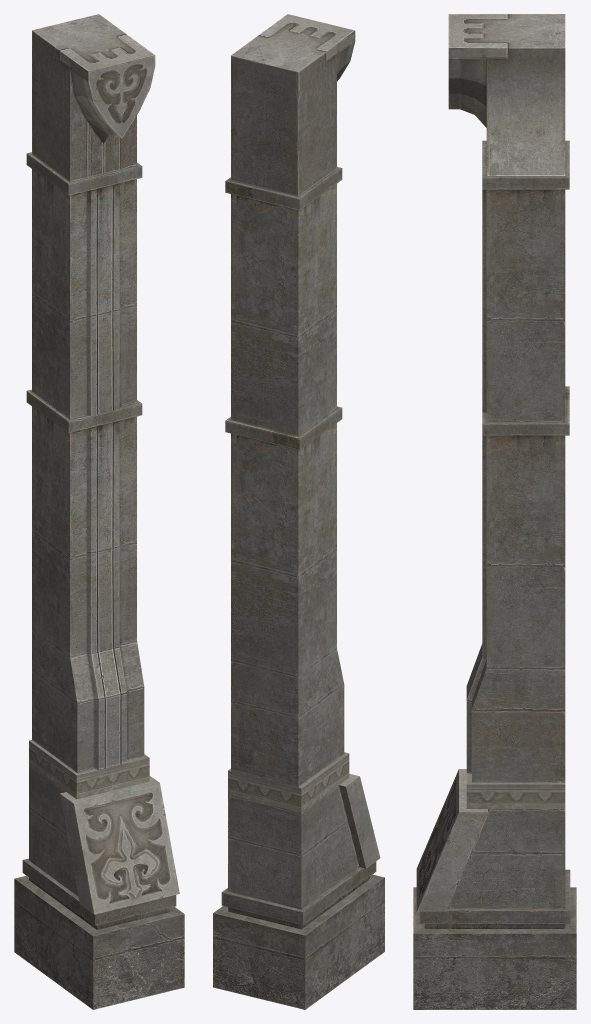
File: bg_lut_lucastle_housepillar01_sm_sup.FBX
The picture shows the model from 3 angles, left to right: view 1: azimuth 30°, elevation 25°; view 2: azimuth 150°, elevation 25°; view 3: azimuth 270°, elevation 25°; orthographic projection. The views are drawn at different scales.
Visible parts, largest first — view 1: bg_lut_lucastle_housepillar01_sm_sup; view 2: bg_lut_lucastle_housepillar01_sm_sup; view 3: bg_lut_lucastle_housepillar01_sm_sup.
Part boxes in pixels (<box>): bg_lut_lucastle_housepillar01_sm_sup: <box>14,14,184,1009</box>; bg_lut_lucastle_housepillar01_sm_sup: <box>213,14,384,1009</box>; bg_lut_lucastle_housepillar01_sm_sup: <box>413,14,576,1009</box>.
Bounding box in the file's own units: 40.25 × 388 × 60.06.
